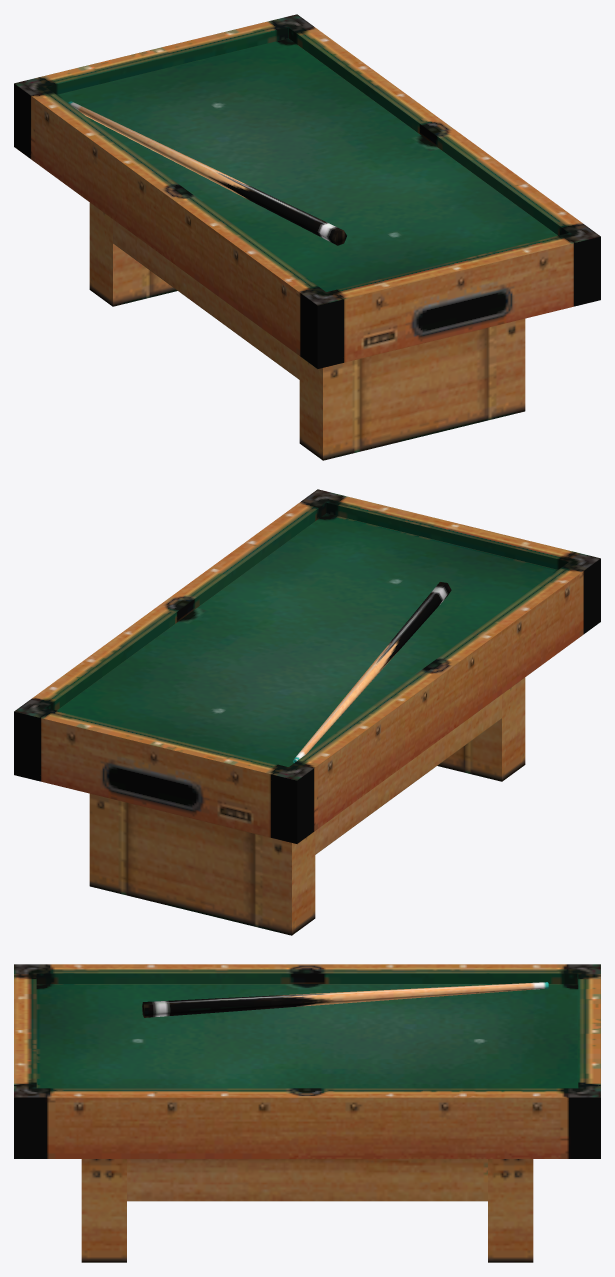
File: pooltable6.fbx
3 renders of one model, top to bottom at view 1: azimuth 30°, elevation 25°; view 2: azimuth 150°, elevation 25°; view 3: azimuth 270°, elevation 25°, orthographic. The views are drawn at different scales.
Visible parts, largest first — view 1: mesh_0; view 2: mesh_0; view 3: mesh_0.
Boxes of the visible parts, x1=… form: mesh_0: x1=14, y1=14, x2=600, y2=460; mesh_0: x1=14, y1=489, x2=600, y2=935; mesh_0: x1=14, y1=964, x2=600, y2=1262.
Size of the model in its own units: 140 by 91.43 by 260.
Materials: 1 (1 with a texture image).
